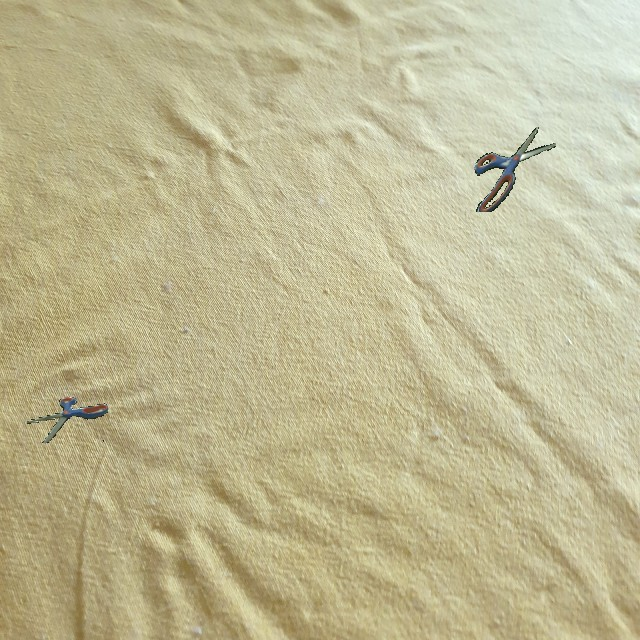scissors: (474, 127, 556, 212), (27, 396, 108, 443)
